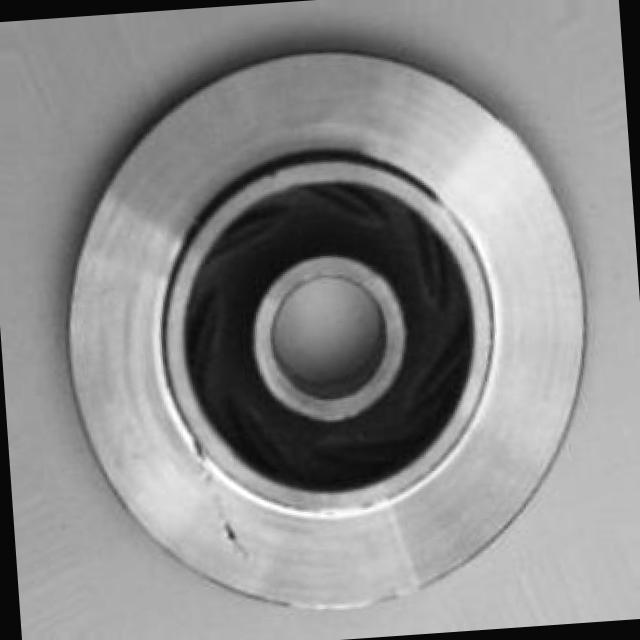Defect: (217, 510, 250, 561)
